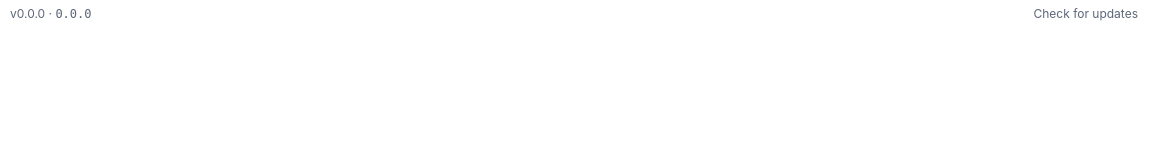
Scenario: VersionFooter › checks for updates on demand and reports when already up to date
Click the button "Check for updates" at (1086, 14), box [1030, 6, 1142, 22]
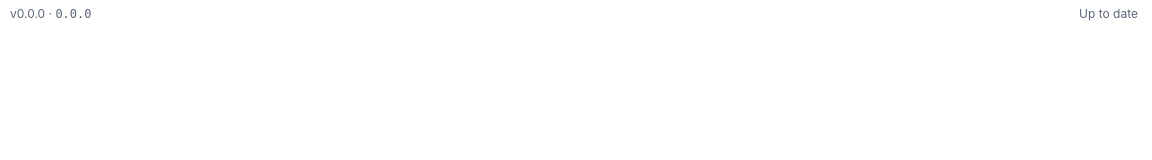
Result: the button "Up to date" is shown at [1075, 6, 1142, 22]
